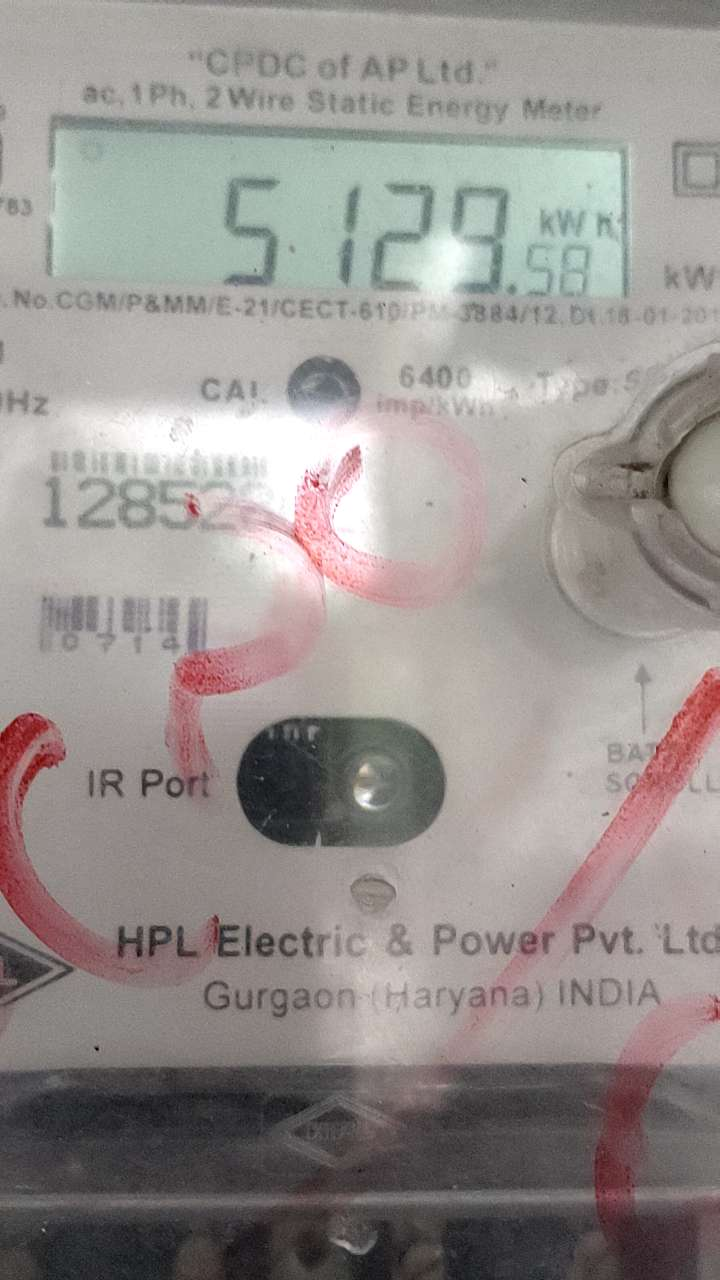meter_serial_number: (41, 475, 283, 537)
